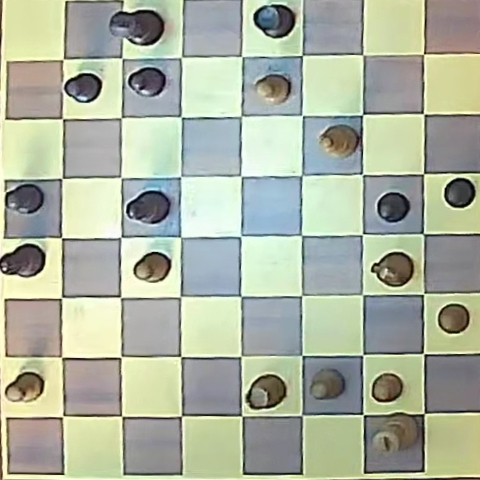black-bishop: (125, 190, 170, 225), (1, 244, 45, 278)
black-king: (110, 9, 164, 46)
black-pawn: (5, 183, 44, 214), (127, 67, 166, 97), (64, 72, 102, 102), (377, 192, 410, 223), (444, 178, 476, 208)
black-rook: (253, 4, 294, 38)
white-bishop: (319, 125, 358, 157)
white-king: (370, 415, 417, 455)
white-knight: (371, 252, 413, 287)
white-pawn: (5, 372, 44, 403), (134, 252, 170, 283), (310, 369, 344, 400), (255, 74, 290, 103), (437, 304, 469, 334), (372, 373, 403, 402)
white-rook: (246, 375, 287, 410)
